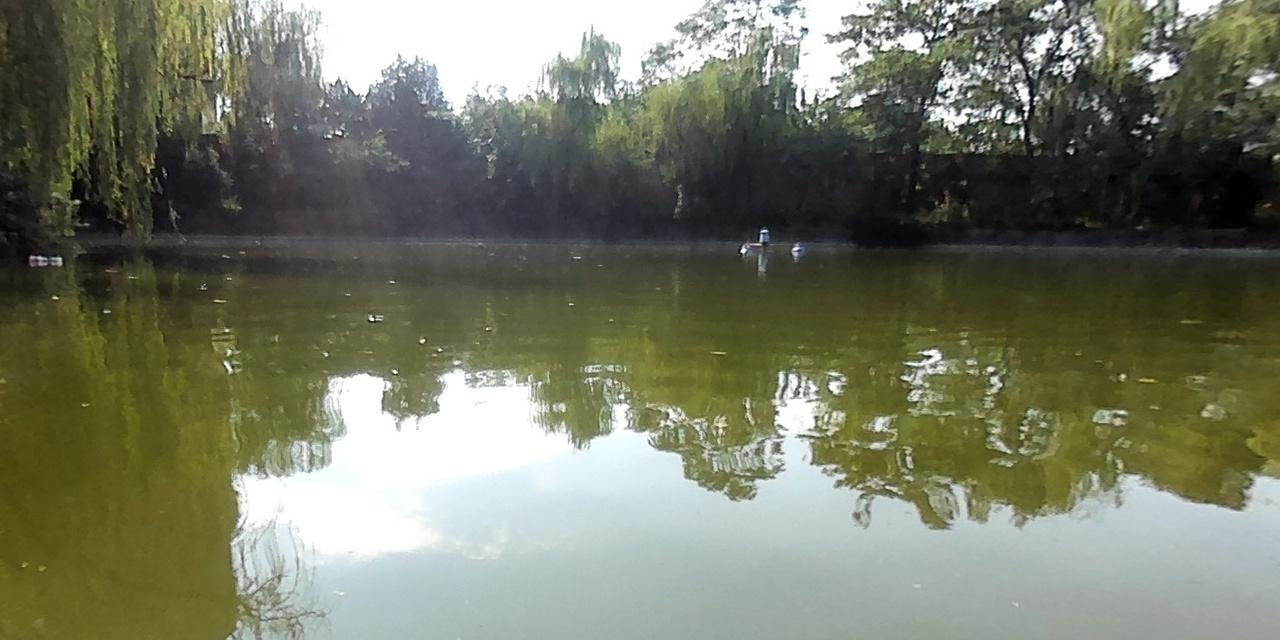bottle: (27, 253, 45, 265), (49, 254, 61, 265)
